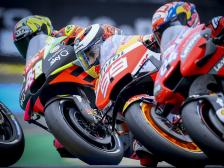helmet: (72, 23, 129, 79), (145, 1, 199, 50), (10, 11, 55, 61)
